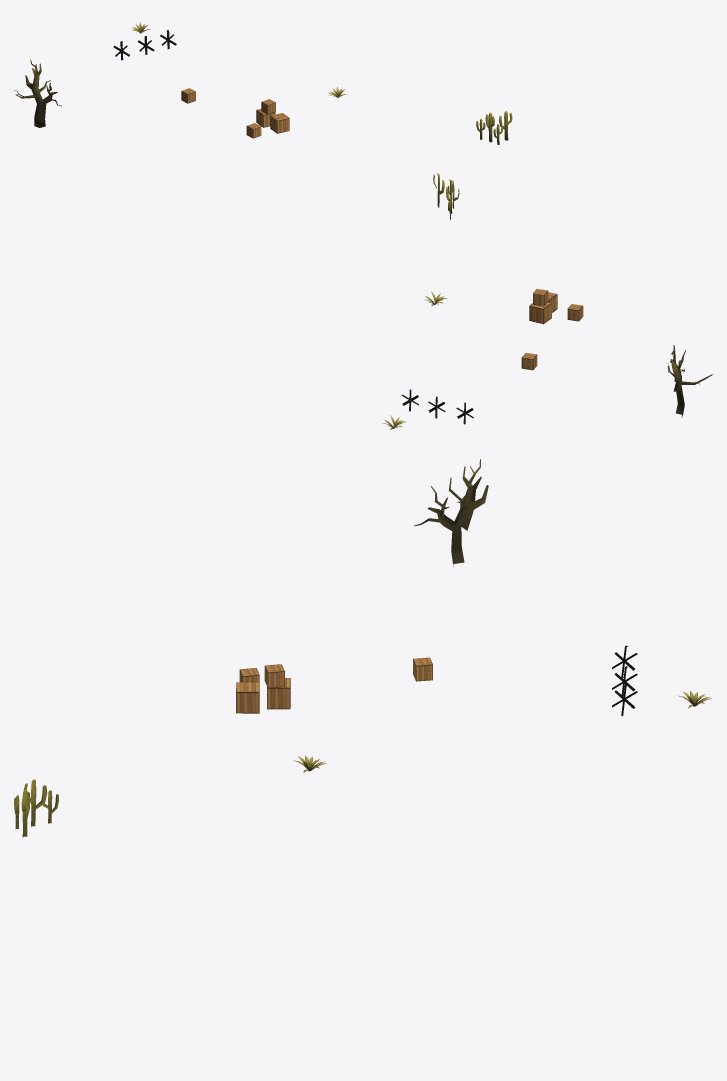
File: T2_tree_bush_env.fbx
3 renders of one model, top to bottom at view 1: azimuth 30°, elevation 25°; view 2: azimuth 150°, elevation 25°; view 3: azimuth 270°, elevation 25°, orthographic. The views are drawn at different scales.
Parts seen in each view (by area): view 1: army_base_03, pCube311, pCube312; view 2: army_base_03, pCube312; view 3: army_base_03.
Part boxes in pixels (x1=…): army_base_03: x1=14, y1=22, x2=512, y2=144; pCube311: x1=270, y1=113, x2=289, y2=133; pCube312: x1=256, y1=109, x2=275, y2=127; army_base_03: x1=382, y1=173, x2=712, y2=429; pCube312: x1=529, y1=302, x2=551, y2=324; army_base_03: x1=14, y1=459, x2=711, y2=837.
Bounding box in the file's own units: 366 × 34.72 × 207.
